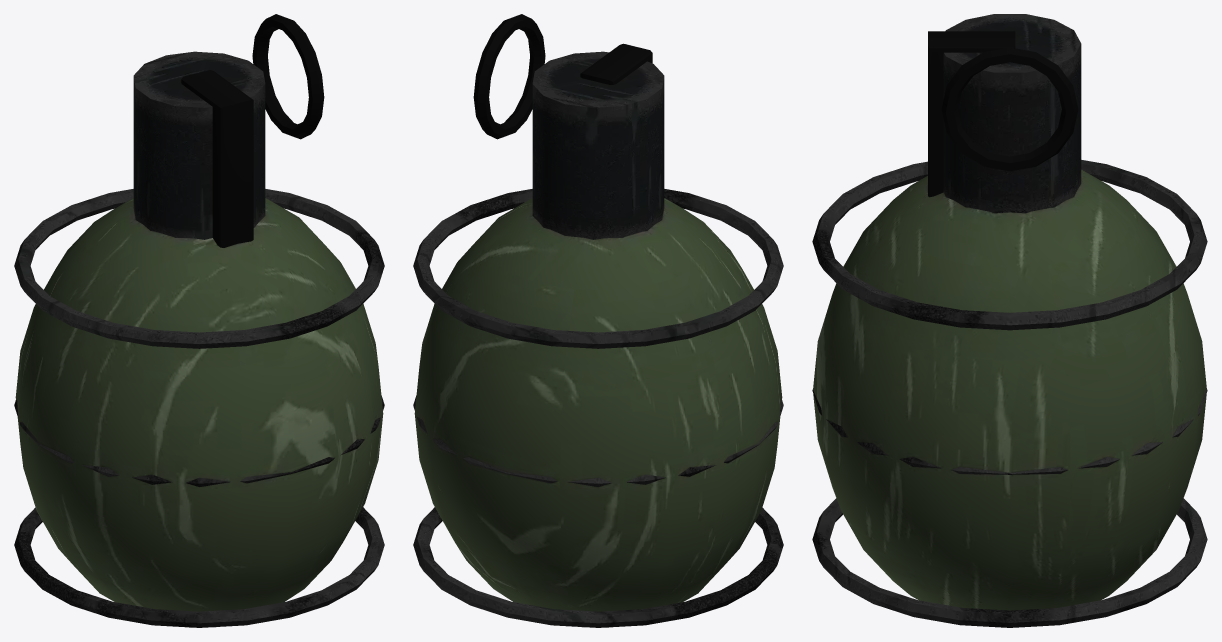
3 views of the same model, side by side, from view 1: azimuth 30°, elevation 25°; view 2: azimuth 150°, elevation 25°; view 3: azimuth 270°, elevation 25° (orthographic). The views are drawn at different scales.
Parts seen in each view (by area): view 1: body_body, body_receiver, body_metal; view 2: body_body, body_receiver, body_metal; view 3: body_body, body_receiver, body_metal.
Boxes of the visible parts, box(x1,y1,x2,y2) form: body_body: box(15, 198, 383, 627); body_receiver: box(14, 51, 384, 627); body_metal: box(181, 14, 324, 247); body_body: box(414, 198, 782, 627); body_receiver: box(413, 51, 783, 627); body_metal: box(473, 14, 652, 139); body_body: box(813, 169, 1206, 610); body_receiver: box(812, 14, 1207, 627); body_metal: box(928, 31, 1078, 197).
Size of the model in its own units: 0.0722 by 0.1235 by 0.0722.
Materials: 3 (3 with a texture image).
